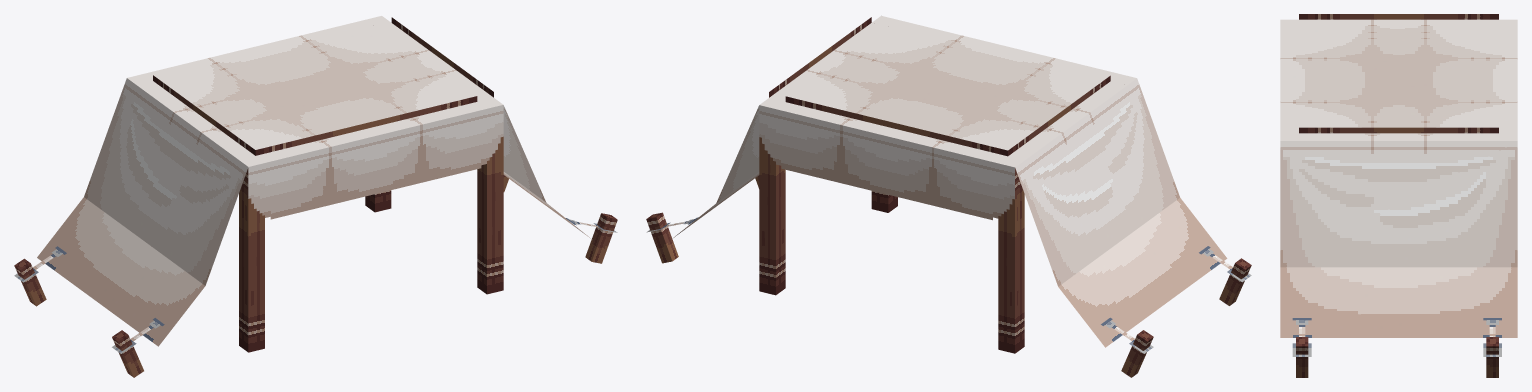
Rendered from tent.gltf.
3 renders of one model, left to right at view 1: azimuth 30°, elevation 25°; view 2: azimuth 150°, elevation 25°; view 3: azimuth 270°, elevation 25°, orthographic. The views are drawn at different scales.
Visible parts, largest first — view 1: cube; view 2: cube; view 3: cube.
Part boxes in pixels (<box>): cube: <box>14,16,617,377</box>; cube: <box>646,15,1251,377</box>; cube: <box>1280,14,1517,377</box>.
Size of the model in its own units: 2.82 by 1.06 by 1.19.
Materials: 1 (1 with a texture image).
